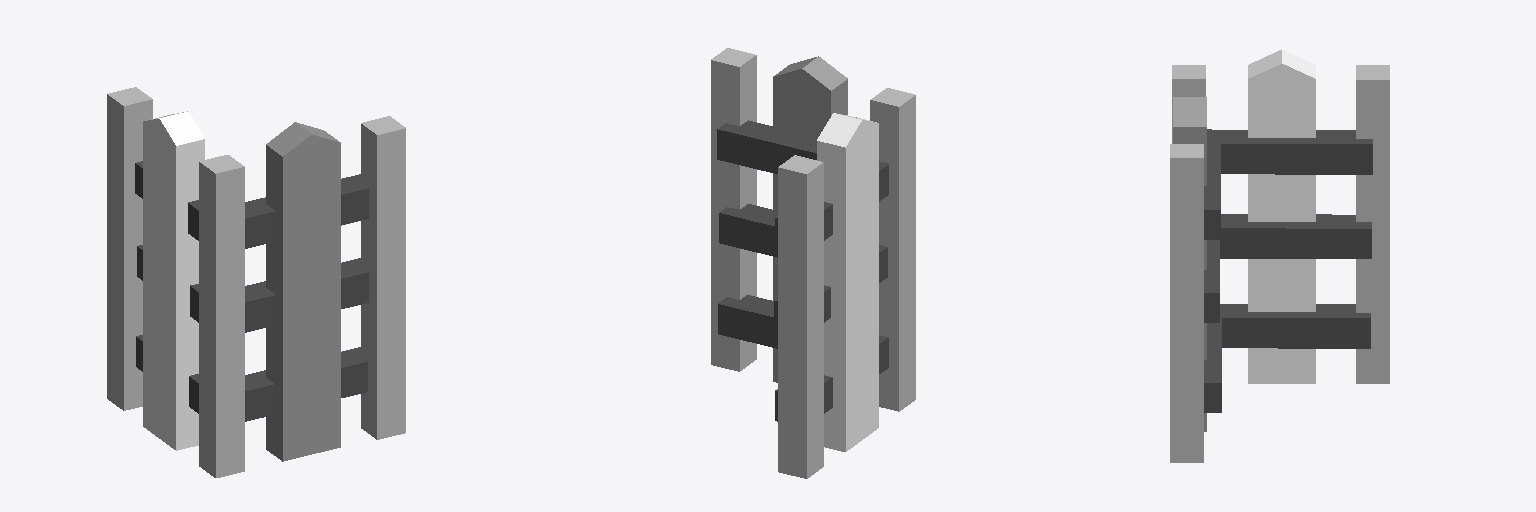
The model's file is FenceCorner.obj.
The picture shows the model from 3 angles: view 1: azimuth 30°, elevation 25°; view 2: azimuth 150°, elevation 25°; view 3: azimuth 270°, elevation 25°; orthographic projection.
Parts seen in each view (by area): view 1: Cube; view 2: Cube; view 3: Cube.
Boxes of the visible parts, box(x1,y1,x2,y2) form: Cube: box(107, 87, 405, 477); Cube: box(711, 48, 915, 478); Cube: box(1170, 49, 1389, 462).
Bounding box in the file's own units: 0.6559 × 1.05 × 0.6536.